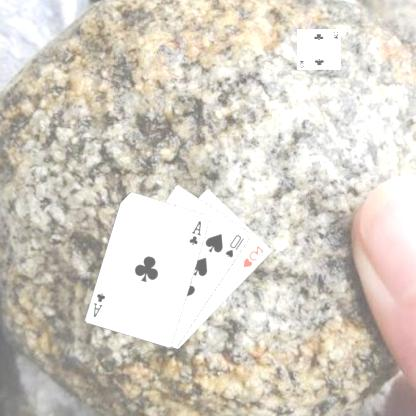10S: (224, 232, 247, 259)
3H: (242, 243, 267, 269)
AC: (188, 218, 205, 246), (92, 290, 109, 318)
